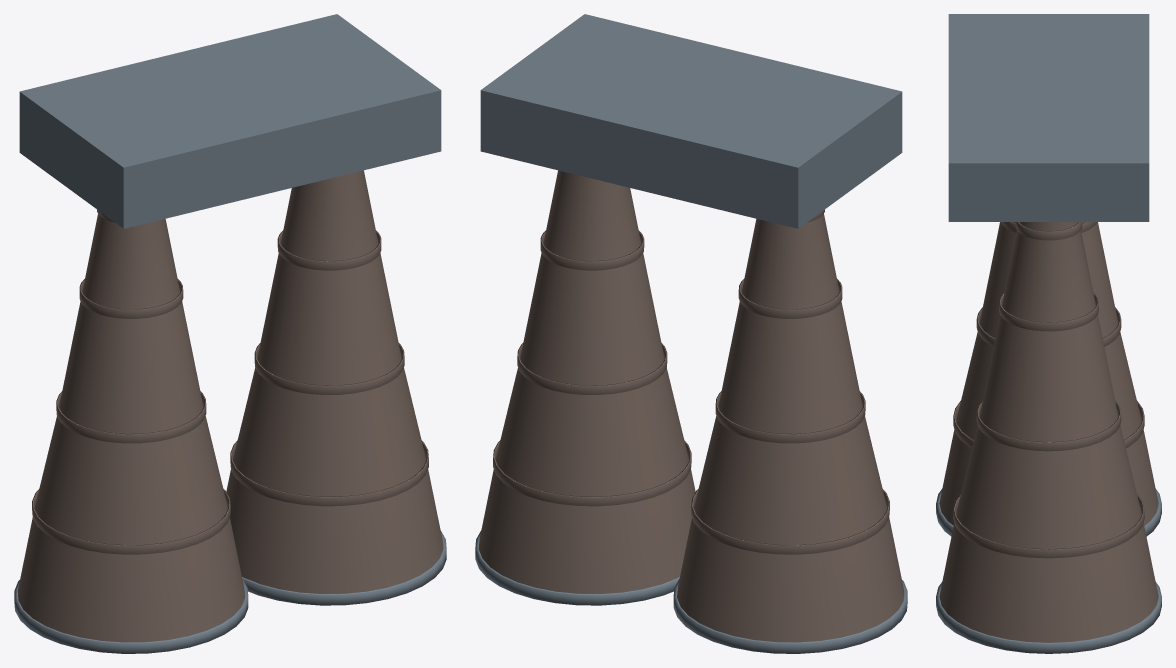
Rendered from atlas_v_core.rd180.glb.
The picture shows the model from 3 angles, left to right: view 1: azimuth 30°, elevation 25°; view 2: azimuth 150°, elevation 25°; view 3: azimuth 270°, elevation 25°; orthographic projection. The views are drawn at different scales.
Visible parts, largest first — view 1: atlas_v_core.rd180.chamber_01.bell.mesh_Heat-stained_alloy, atlas_v_core.rd180.chamber_02.bell.mesh_Heat-stained_alloy, atlas_v_core.rd180.mesh_Machined_steel, atlas_v_core.rd180.chamber_01.bell.mesh_Machined_steel, atlas_v_core.rd180.chamber_02.bell.mesh_Machined_steel; view 2: atlas_v_core.rd180.chamber_01.bell.mesh_Heat-stained_alloy, atlas_v_core.rd180.chamber_02.bell.mesh_Heat-stained_alloy, atlas_v_core.rd180.mesh_Machined_steel, atlas_v_core.rd180.chamber_01.bell.mesh_Machined_steel, atlas_v_core.rd180.chamber_02.bell.mesh_Machined_steel; view 3: atlas_v_core.rd180.chamber_02.bell.mesh_Heat-stained_alloy, atlas_v_core.rd180.mesh_Machined_steel, atlas_v_core.rd180.chamber_01.bell.mesh_Heat-stained_alloy, atlas_v_core.rd180.chamber_02.bell.mesh_Machined_steel, atlas_v_core.rd180.chamber_01.bell.mesh_Machined_steel.
Boxes of the visible parts, x1,y1,x2,y2 form: atlas_v_core.rd180.chamber_01.bell.mesh_Heat-stained_alloy: (17, 209, 244, 642); atlas_v_core.rd180.chamber_02.bell.mesh_Heat-stained_alloy: (226, 170, 443, 593); atlas_v_core.rd180.mesh_Machined_steel: (19, 14, 441, 228); atlas_v_core.rd180.chamber_01.bell.mesh_Machined_steel: (14, 579, 248, 653); atlas_v_core.rd180.chamber_02.bell.mesh_Machined_steel: (242, 530, 446, 605); atlas_v_core.rd180.chamber_01.bell.mesh_Heat-stained_alloy: (677, 209, 904, 642); atlas_v_core.rd180.chamber_02.bell.mesh_Heat-stained_alloy: (478, 170, 695, 593); atlas_v_core.rd180.mesh_Machined_steel: (480, 14, 902, 228); atlas_v_core.rd180.chamber_01.bell.mesh_Machined_steel: (673, 579, 907, 653); atlas_v_core.rd180.chamber_02.bell.mesh_Machined_steel: (475, 530, 679, 605); atlas_v_core.rd180.chamber_02.bell.mesh_Heat-stained_alloy: (939, 222, 1158, 642); atlas_v_core.rd180.mesh_Machined_steel: (948, 14, 1149, 221); atlas_v_core.rd180.chamber_01.bell.mesh_Heat-stained_alloy: (939, 222, 1158, 525); atlas_v_core.rd180.chamber_02.bell.mesh_Machined_steel: (936, 582, 1161, 653); atlas_v_core.rd180.chamber_01.bell.mesh_Machined_steel: (936, 489, 1161, 536).
Size of the model in its own units: 3.16 by 3.68 by 1.6.
